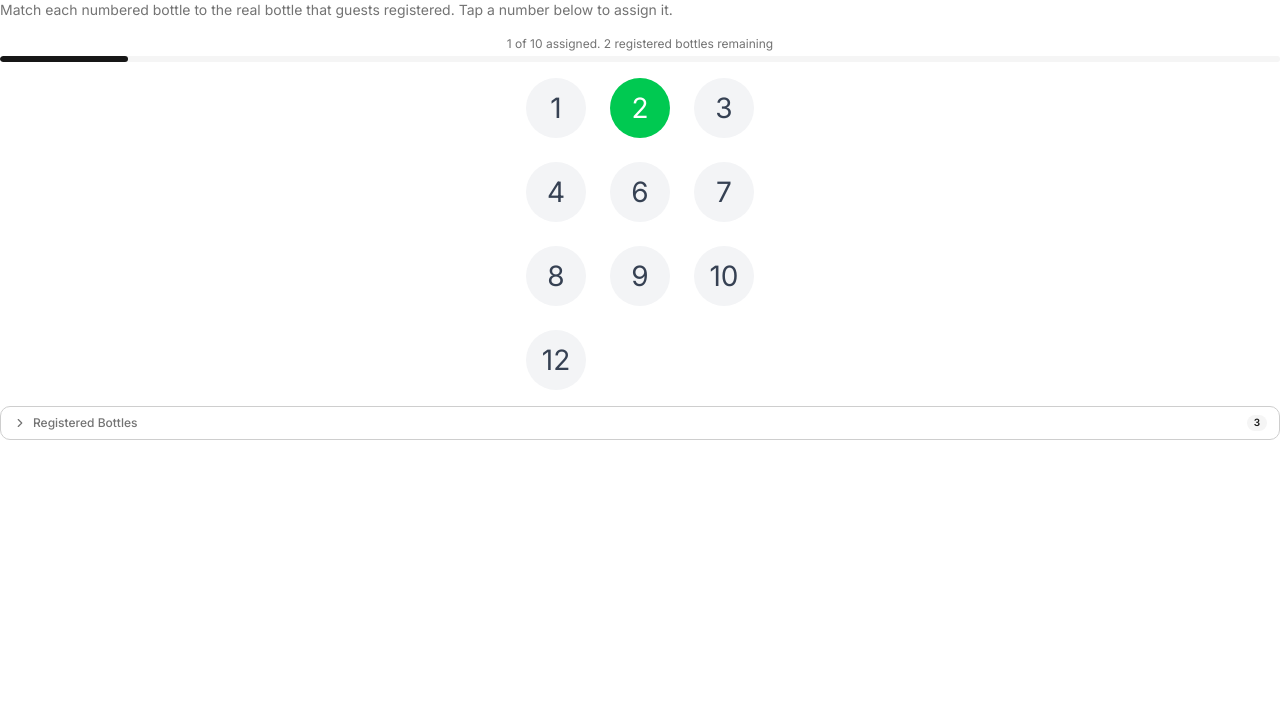
Scenario: AssignmentView › US3: Review and Change › shows current assignment when assigned button is tapped
Click the button with test id "assignment-button-2". click: [640, 108]
box: [610, 78, 670, 138]
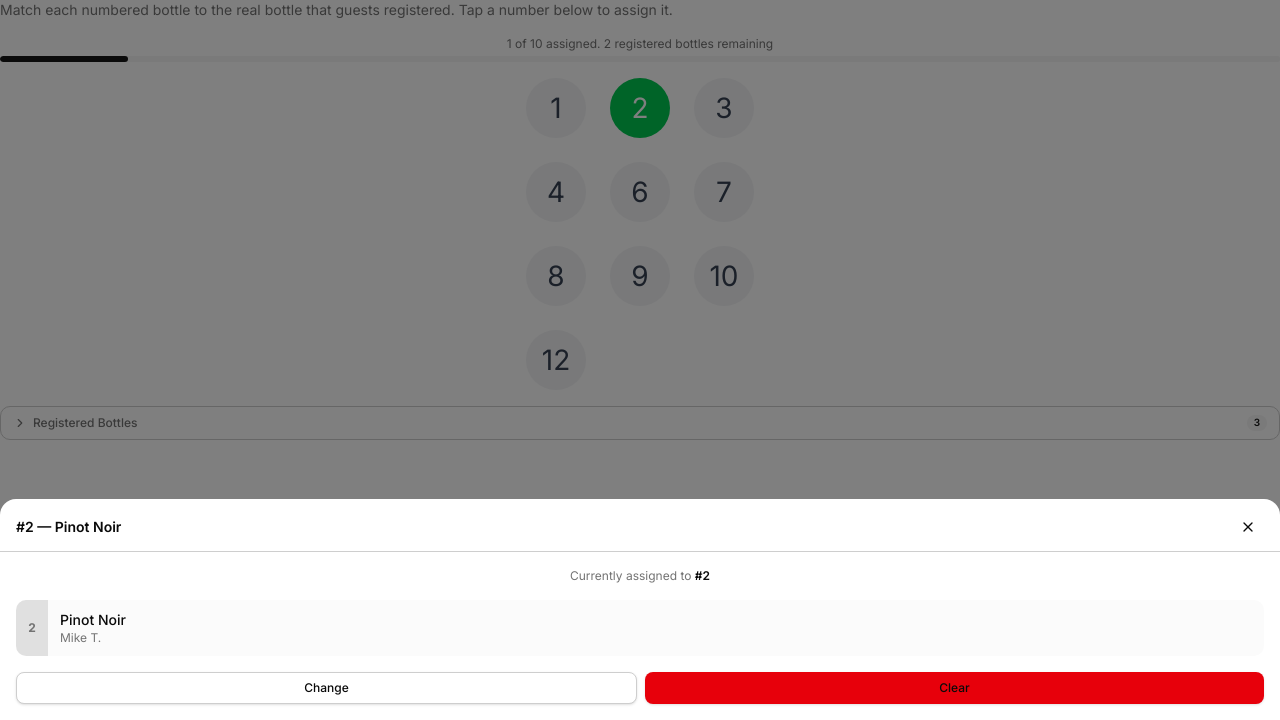
Now the heading "#2 — Pinot Noir" is shown, box [16, 517, 121, 537]
Now the text "Mike T." is shown, box [60, 630, 101, 645]
Now the button with test id "change-assignment-btn" is shown, box [16, 672, 637, 704]
